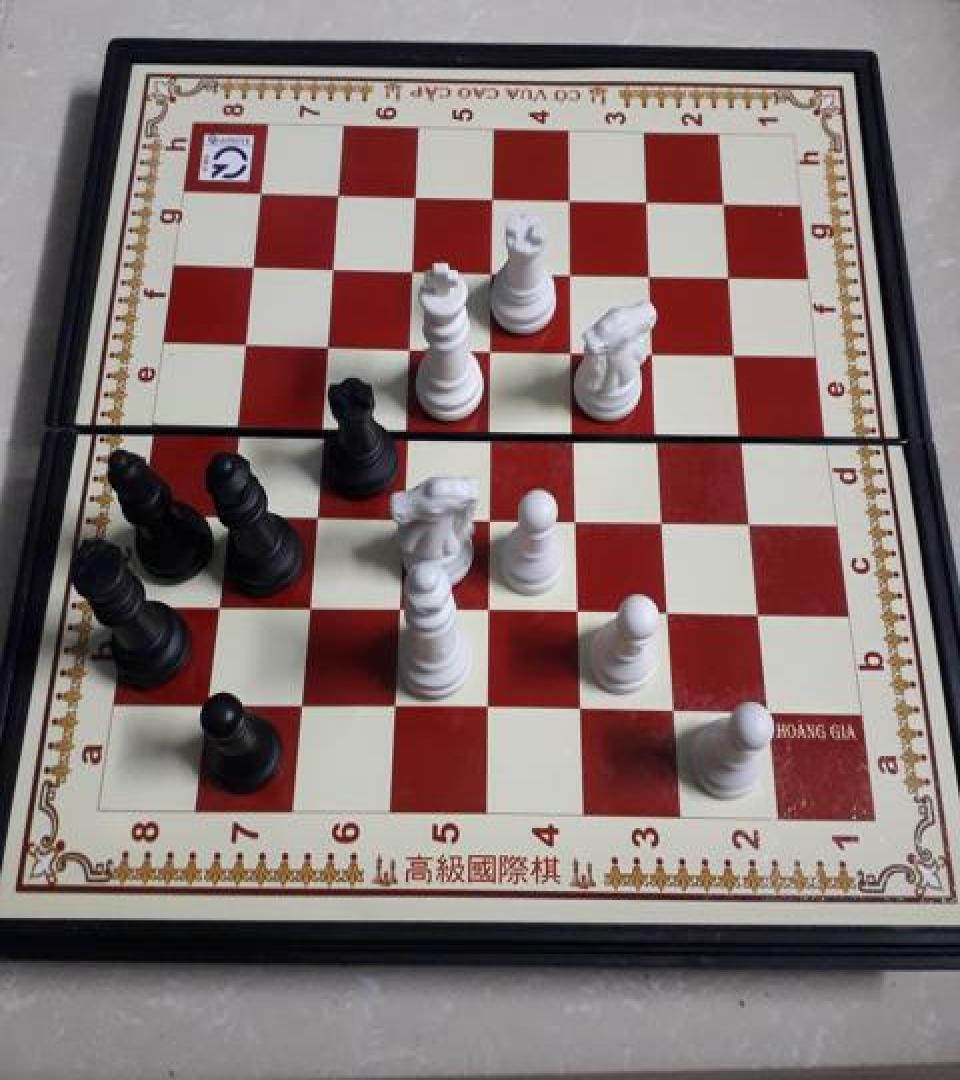xcorner: (474, 688, 506, 725), (384, 588, 416, 625), (192, 684, 224, 720), (286, 685, 318, 721), (380, 688, 412, 724), (567, 691, 599, 727), (661, 692, 693, 728), (755, 694, 787, 730), (202, 584, 234, 620), (293, 586, 325, 622), (474, 590, 506, 626), (565, 592, 597, 628), (656, 593, 688, 629), (746, 595, 778, 631), (212, 492, 244, 528), (300, 494, 332, 530), (387, 495, 419, 531), (475, 497, 507, 533), (563, 498, 595, 534), (650, 500, 682, 536), (738, 502, 770, 538), (221, 405, 253, 441), (306, 406, 338, 442), (391, 408, 423, 444), (476, 410, 508, 446), (561, 412, 593, 448), (646, 413, 678, 449), (730, 415, 762, 451), (229, 323, 261, 359), (312, 325, 344, 361), (394, 326, 426, 362), (559, 330, 591, 366), (641, 332, 673, 368), (723, 333, 755, 369), (237, 246, 269, 282), (317, 248, 349, 284), (397, 250, 429, 286), (477, 252, 509, 288), (557, 253, 589, 289), (637, 254, 669, 290), (717, 256, 749, 292), (245, 174, 277, 210), (322, 176, 354, 212), (400, 178, 432, 214), (478, 179, 510, 215), (555, 181, 587, 217), (633, 182, 665, 218), (710, 184, 742, 220), (476, 329, 508, 364)
